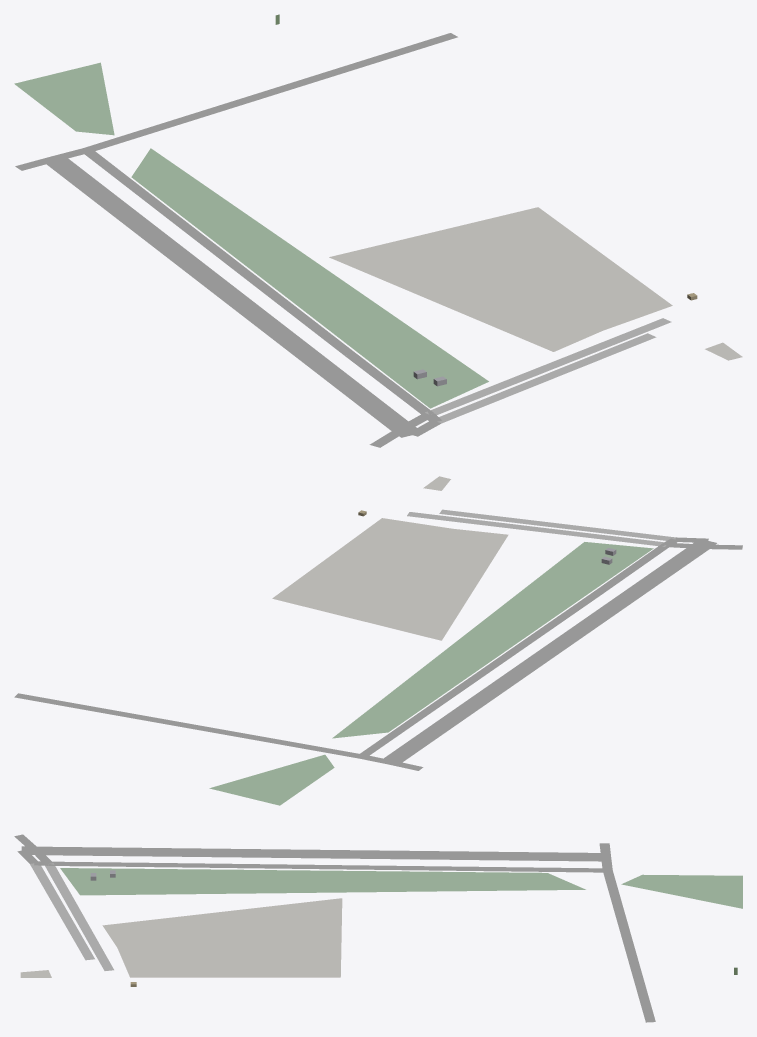
The picture shows the model from 3 angles, top to bottom: view 1: azimuth 30°, elevation 25°; view 2: azimuth 150°, elevation 25°; view 3: azimuth 270°, elevation 25°; orthographic projection. The views are drawn at different scales.
Bounding box in the file's own units: 305 × 6.1 × 505.
